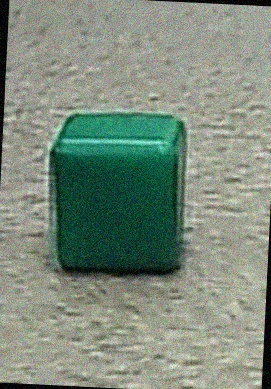green_cube: (34, 92, 205, 285)
